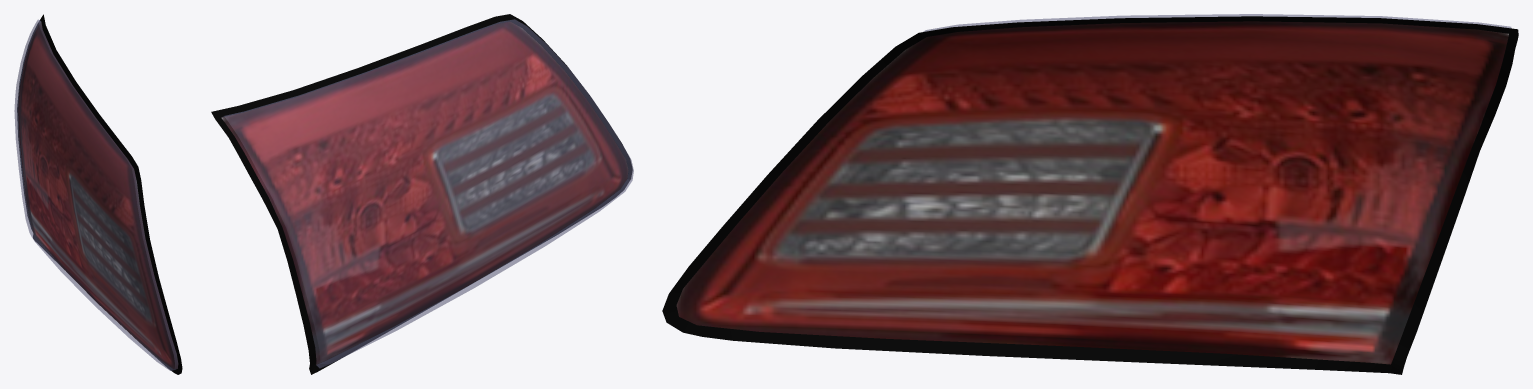
The picture shows the model from 3 angles, left to right: view 1: azimuth 30°, elevation 25°; view 2: azimuth 150°, elevation 25°; view 3: azimuth 270°, elevation 25°; orthographic projection. The views are drawn at different scales.
Parts seen in each view (by area): view 1: LX24_541D_L_2_DTaSI_LX24_541D_L, LX24_541D_L_LX24_541D_L_1_N, LX24_541D_L_LX24_541D_L_3_D; view 2: LX24_541D_L_2_DTaSI_LX24_541D_L, LX24_541D_L_LX24_541D_L_1_N, LX24_541D_L_LX24_541D_L_3_D; view 3: LX24_541D_L_LX24_541D_L_1_N, LX24_541D_L_LX24_541D_L_3_D, LX24_541D_L_2_DTaSI_LX24_541D_L.
Boxes of the visible parts, <box> form: LX24_541D_L_2_DTaSI_LX24_541D_L: <box>14,19,177,370</box>; LX24_541D_L_LX24_541D_L_1_N: <box>18,22,178,368</box>; LX24_541D_L_LX24_541D_L_3_D: <box>17,14,182,374</box>; LX24_541D_L_2_DTaSI_LX24_541D_L: <box>221,19,633,368</box>; LX24_541D_L_LX24_541D_L_1_N: <box>221,22,628,364</box>; LX24_541D_L_LX24_541D_L_3_D: <box>211,14,632,374</box>; LX24_541D_L_LX24_541D_L_1_N: <box>676,21,1508,364</box>; LX24_541D_L_LX24_541D_L_3_D: <box>662,16,1518,374</box>; LX24_541D_L_2_DTaSI_LX24_541D_L: <box>923,14,1511,31</box>.
Bounding box in the file's own units: 9.9 × 22.26 × 44.8.
